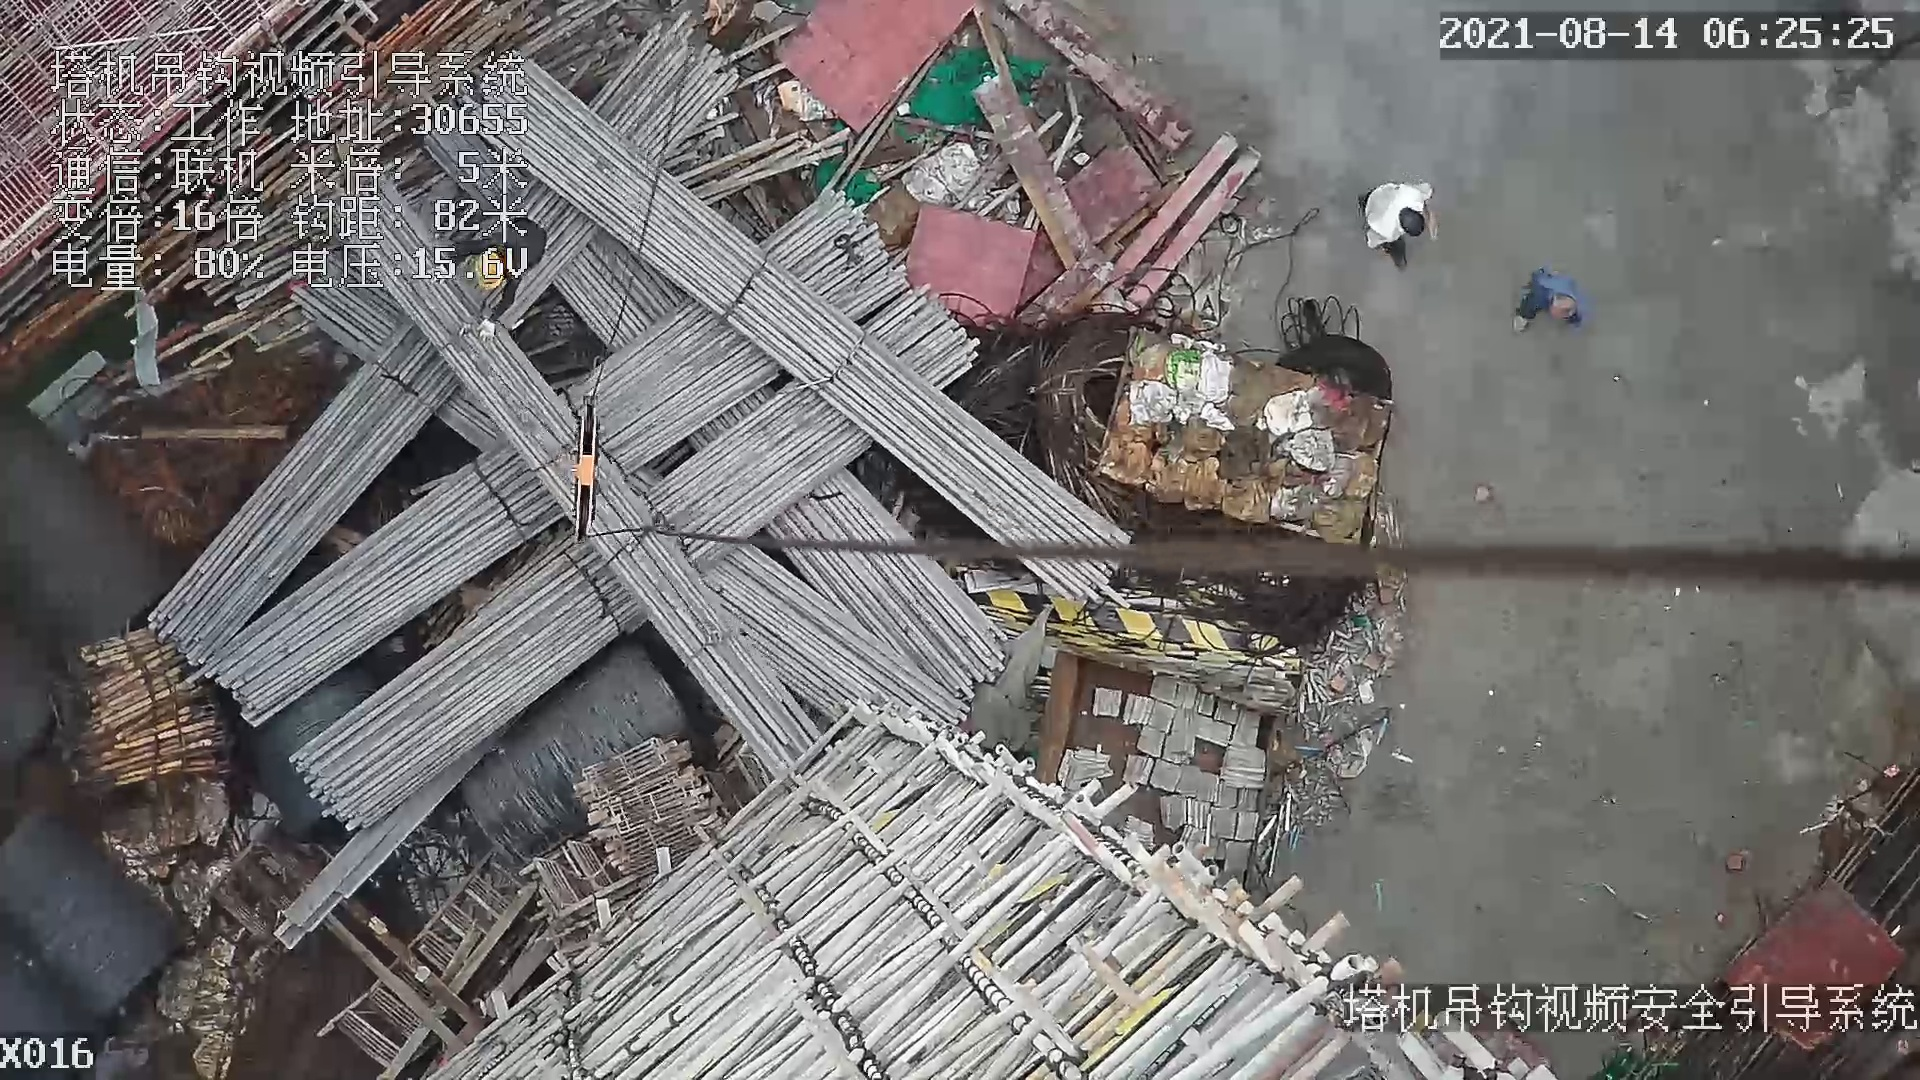helmet: (474, 250, 501, 292)
hook: (562, 397, 612, 545)
person: (451, 221, 537, 333), (1360, 171, 1444, 273), (1495, 260, 1597, 342)
